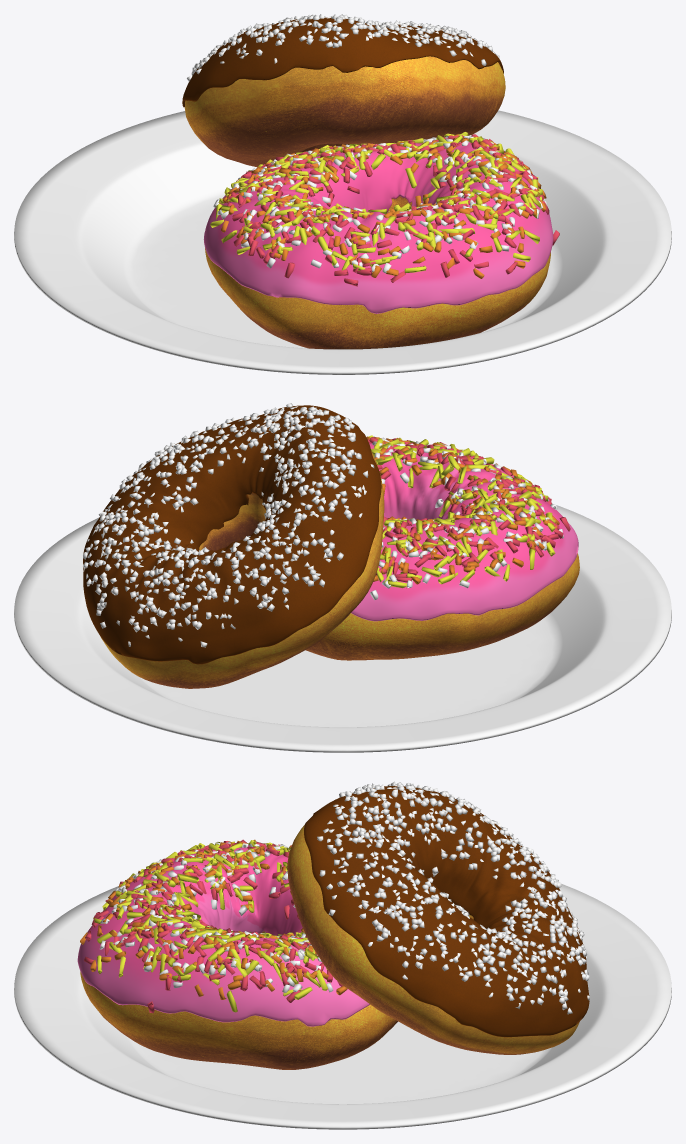
File: donuts.glb
3 views of the same model, one above another, from view 1: azimuth 30°, elevation 25°; view 2: azimuth 150°, elevation 25°; view 3: azimuth 270°, elevation 25° (orthographic).
Visible parts, largest first — view 1: plate, sprinkle-pink-donut, glace, donuts.001, donuts, glace.001, sprinkle-cocoa-donut; view 2: plate, glace.001, sprinkle-cocoa-donut, sprinkle-pink-donut, glace, donuts, donuts.001; view 3: plate, glace.001, sprinkle-pink-donut, glace, sprinkle-cocoa-donut, donuts, donuts.001.
Boxes of the visible parts, <box> form: plate: <box>14,110,671,374</box>; sprinkle-pink-donut: <box>210,132,559,286</box>; glace: <box>203,141,553,313</box>; donuts.001: <box>184,56,505,166</box>; donuts: <box>205,196,550,349</box>; glace.001: <box>182,17,503,107</box>; sprinkle-cocoa-donut: <box>187,14,499,81</box>; plate: <box>14,505,671,752</box>; glace.001: <box>83,405,381,664</box>; sprinkle-cocoa-donut: <box>82,403,374,647</box>; sprinkle-pink-donut: <box>366,435,570,600</box>; glace: <box>351,443,578,621</box>; donuts: <box>305,553,579,660</box>; donuts.001: <box>101,451,384,688</box>; plate: <box>14,883,671,1129</box>; glace.001: <box>304,786,589,1037</box>; sprinkle-pink-donut: <box>80,839,347,1013</box>; glace: <box>77,845,369,1026</box>; sprinkle-cocoa-donut: <box>317,781,589,1014</box>; donuts: <box>80,931,397,1069</box>; donuts.001: <box>287,824,579,1054</box>.
Size of the model in its own units: 0.3127 by 0.1259 by 0.3127.
9 materials, 8 textured.
